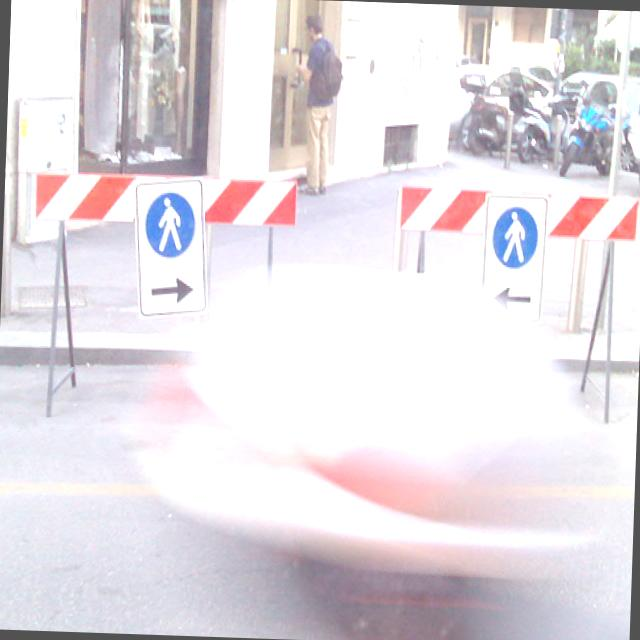Vehicle: (458, 74, 554, 164), (556, 70, 640, 172), (556, 75, 617, 180), (486, 71, 566, 116), (634, 90, 640, 195)
